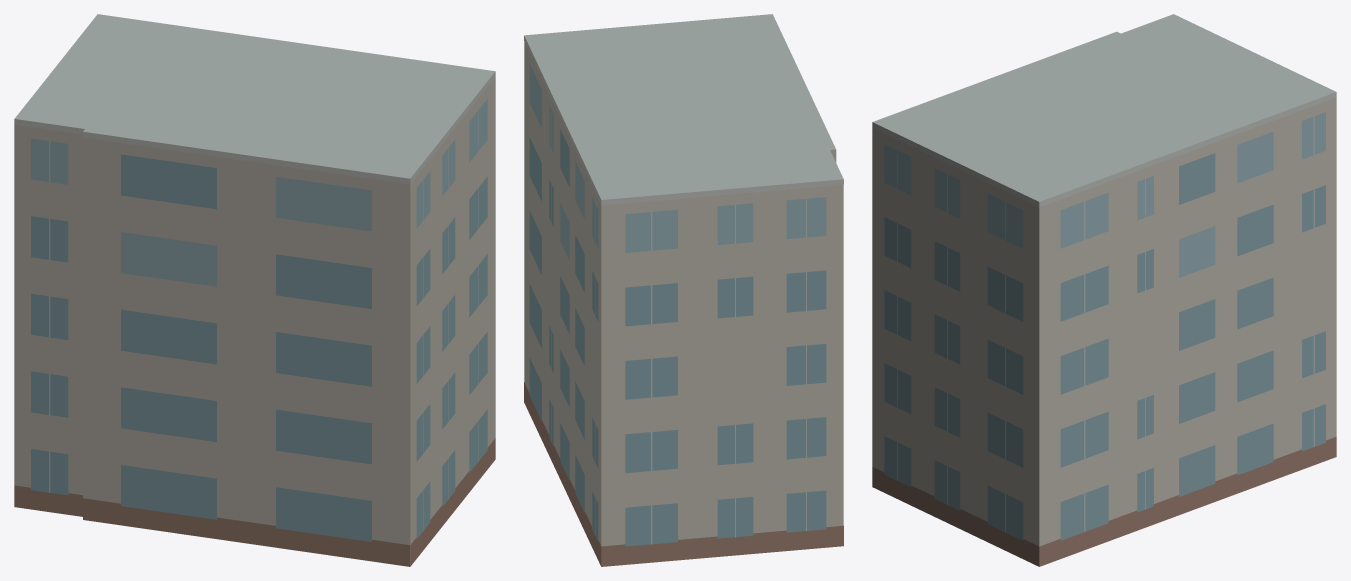
File: survey-upis-32974117.glb
3 renders of one model, left to right at view 1: azimuth 30°, elevation 25°; view 2: azimuth 150°, elevation 25°; view 3: azimuth 270°, elevation 25°, orthographic. The views are drawn at different scales.
Parts seen in each view (by area): view 1: survey-upis-32974117.tmp; view 2: survey-upis-32974117.tmp; view 3: survey-upis-32974117.tmp.
Boxes of the visible parts, x1,y1,x2,y2 form: survey-upis-32974117.tmp: (14,14,495,566); survey-upis-32974117.tmp: (524,14,843,566); survey-upis-32974117.tmp: (872,14,1336,566).
Size of the model in its own units: 17.79 by 16.1 by 18.57.
